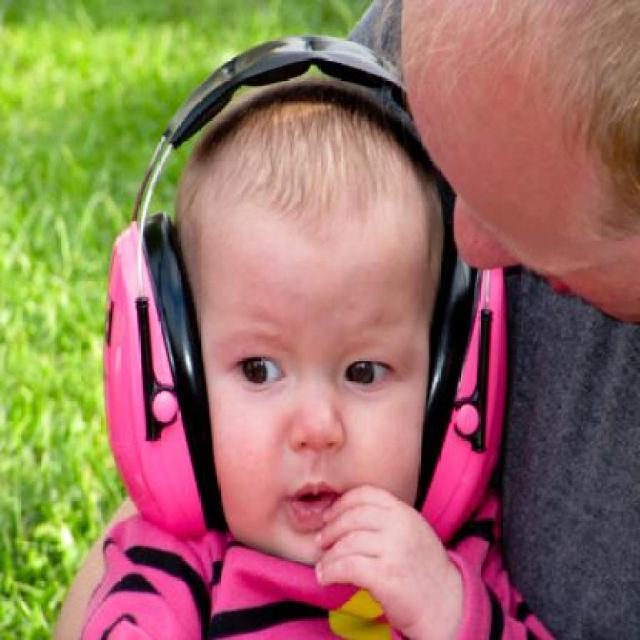earphone: (65, 16, 517, 556)
